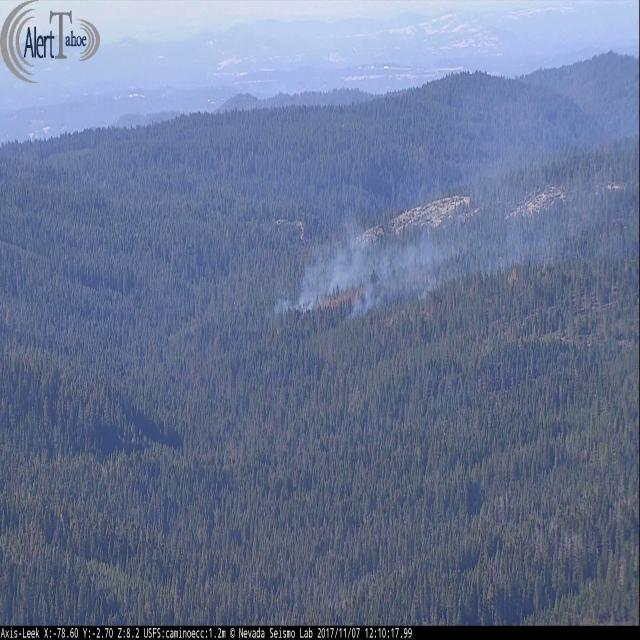smoke: (271, 63, 640, 323)
